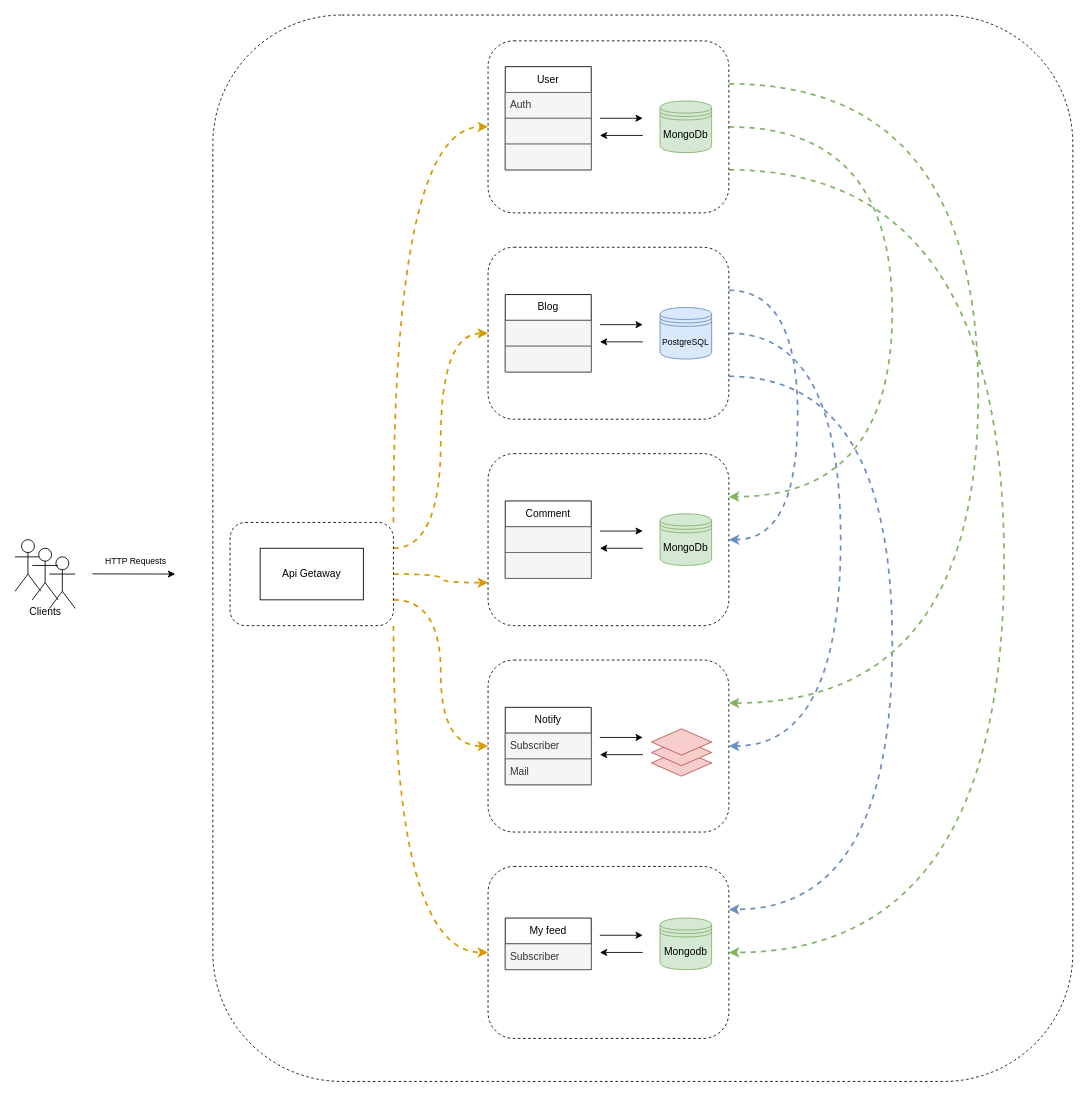
Some shapes in this 1088 by 1097 pixel diagram are drawn without their labels. Each missing label, with the centre of its shape:
Comments: pixel 547 565
Likes: pixel 547 539
Lists: pixel 547 358
Publication: pixel 547 332
RabbitMQ: pixel 681 741
Registration: pixel 547 156
Tockens: pixel 547 130
